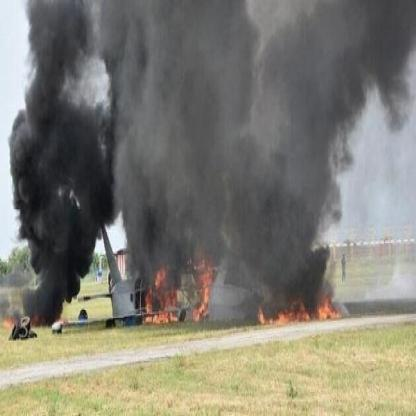fire: (256, 286, 342, 324), (140, 262, 180, 327), (185, 252, 219, 324), (3, 306, 18, 336)
smoke: (252, 5, 408, 273), (114, 0, 250, 262), (6, 0, 113, 322)
